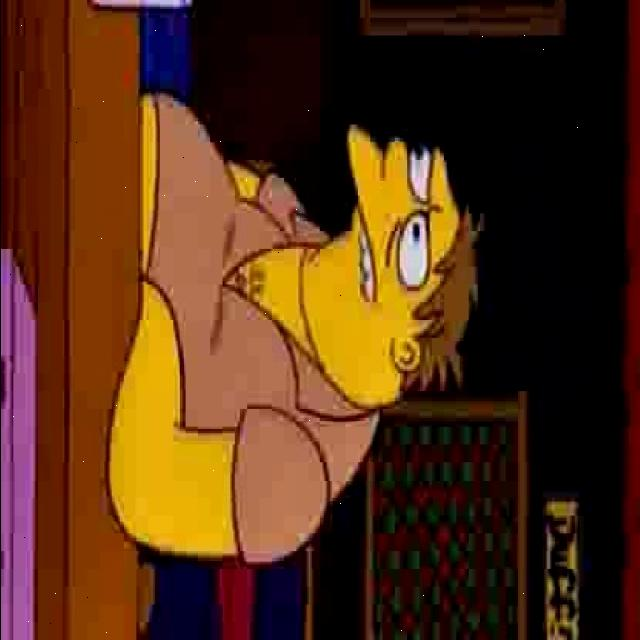Barney Gumble: (306, 122, 480, 416)
